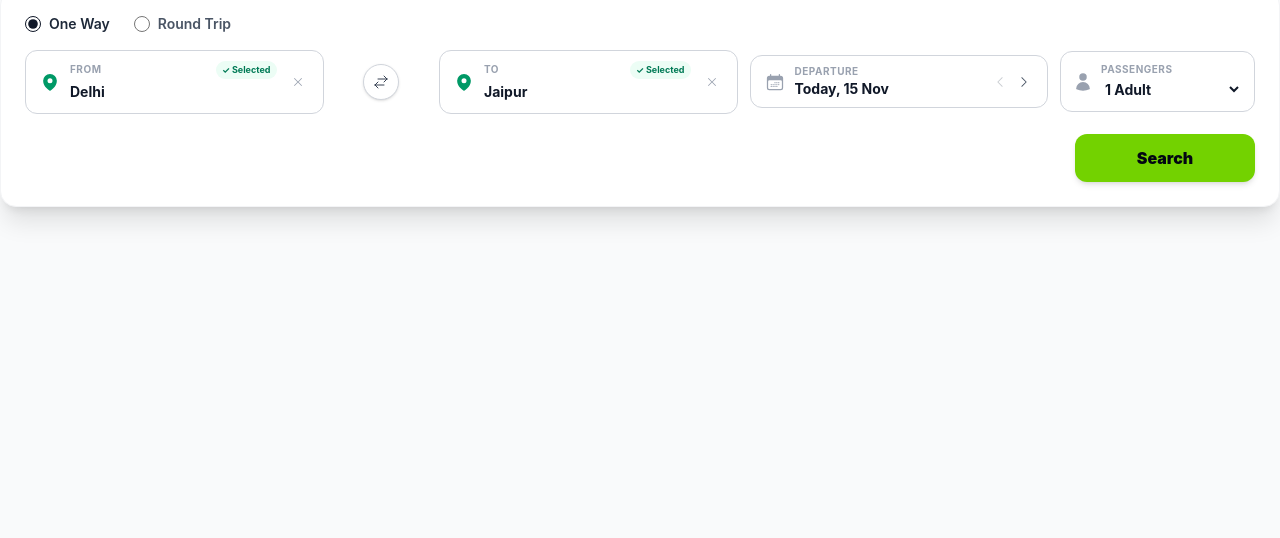
Test case: CitySearchInput & Auto-Suggest Suite › opens interactive calendar on calendar icon click and allows picking year, month, and date
Click the button named "open departure calendar" at (774, 82), box [762,70,786,94]
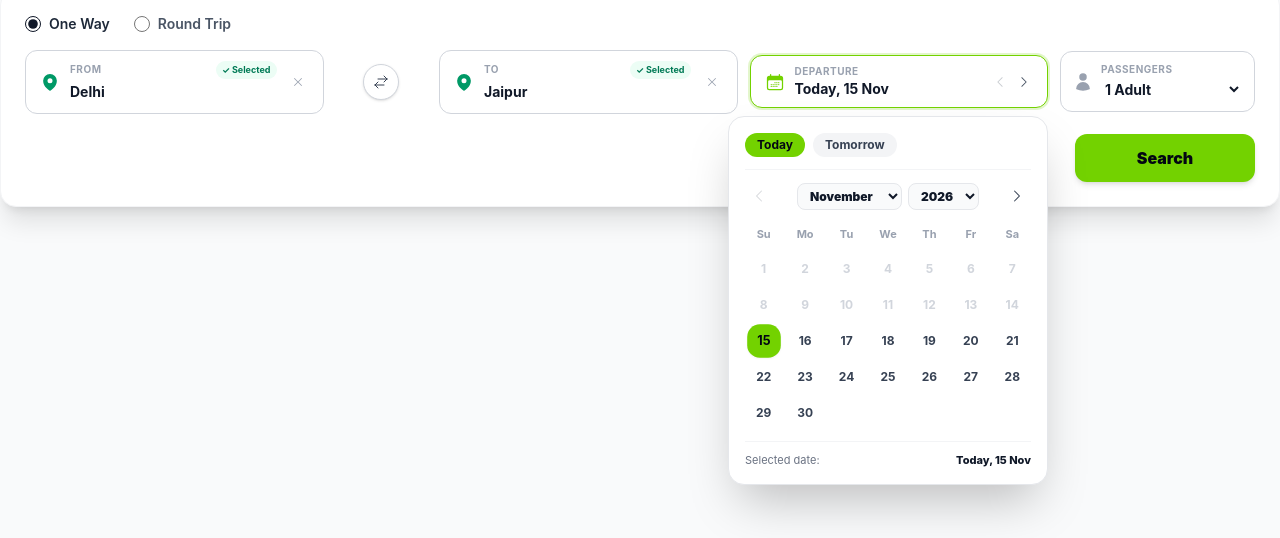
expect the button "Today" is shown: met, box [745,133,805,157]
expect the button "Tomorrow" is shown: met, box [813,133,897,157]
expect the button "27" is shown: met
Click the button "27" at (971, 377), box [955,361,987,393]
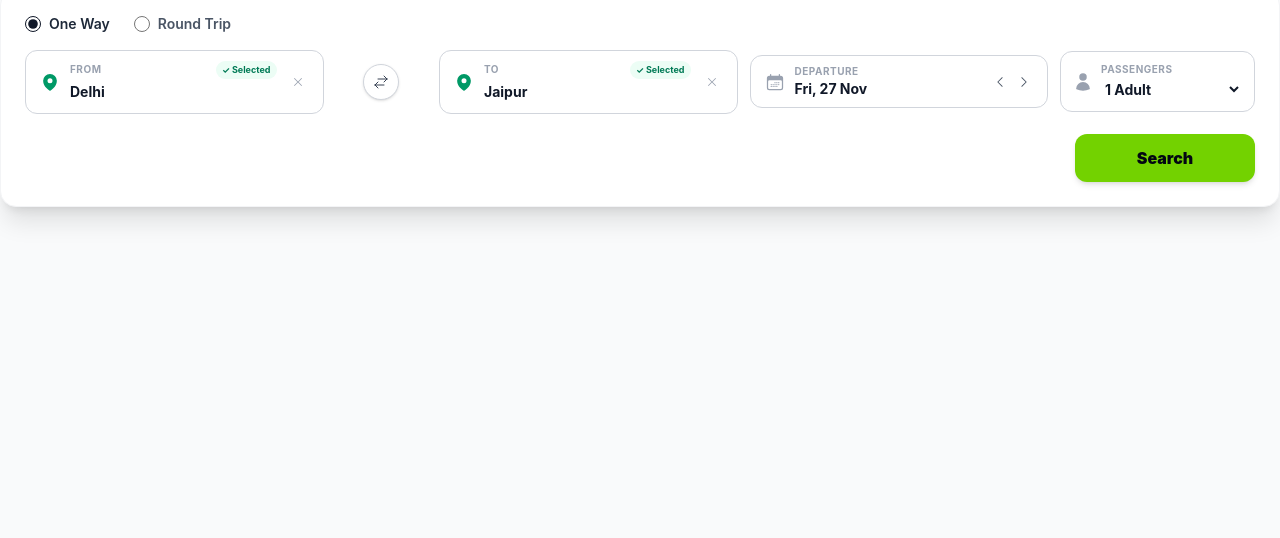
expect the text "Today" is gone: met
expect the text "Fri, 27 Nov" is shown: met, box [794,80,867,97]
